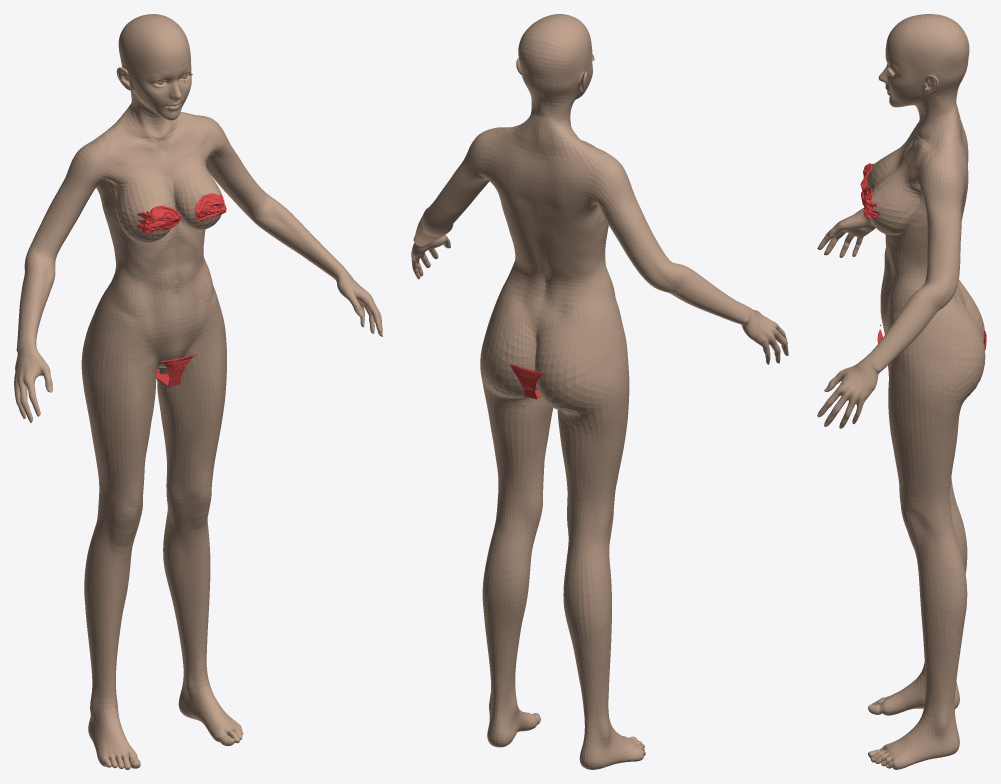
Rendered from privacy_zones_debug.obj.
The picture shows the model from 3 angles, left to right: view 1: azimuth 30°, elevation 25°; view 2: azimuth 150°, elevation 25°; view 3: azimuth 270°, elevation 25°; orthographic projection. The views are drawn at different scales.
Bounding box in the file's own units: 0.9031 × 1.73 × 0.3682.
